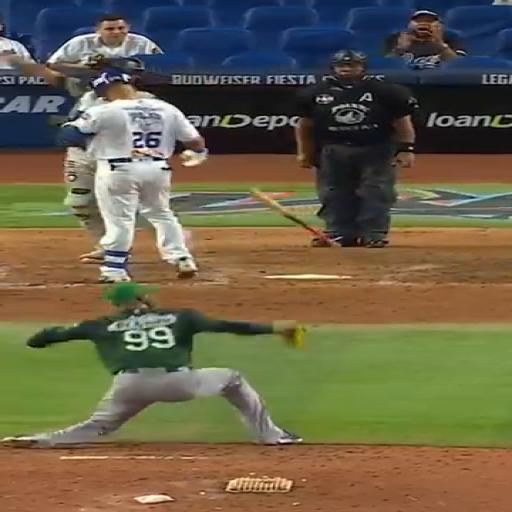bat: (251, 188, 331, 245)
